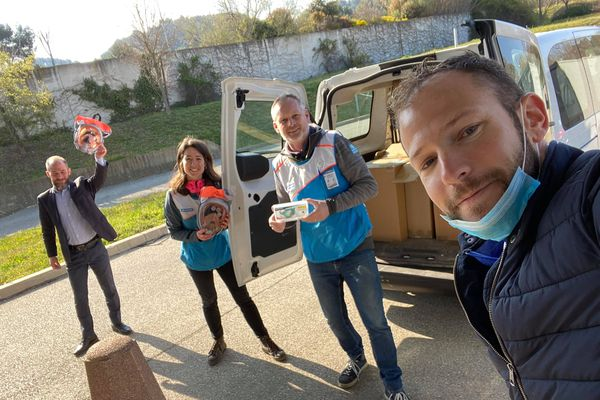with_incorrect_mask: (402, 110, 543, 236)
without_mask: (275, 111, 307, 140), (180, 150, 207, 182), (49, 161, 70, 189)
